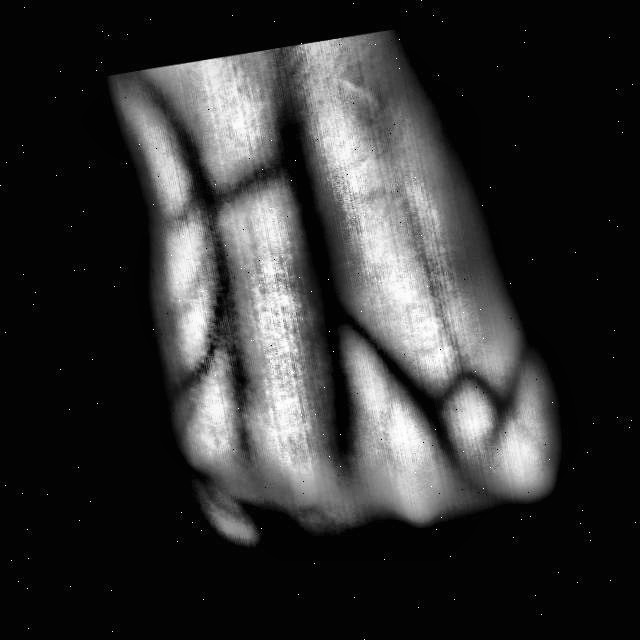Vein: (278, 118, 351, 359)
